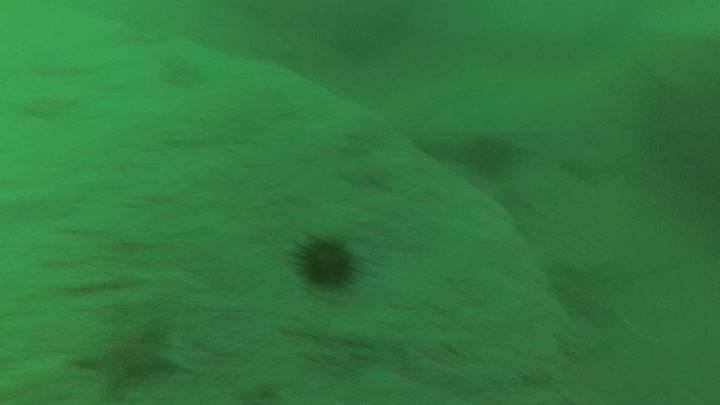echinus: (290, 230, 362, 293), (461, 130, 515, 178)
starfish: (68, 307, 182, 401)
